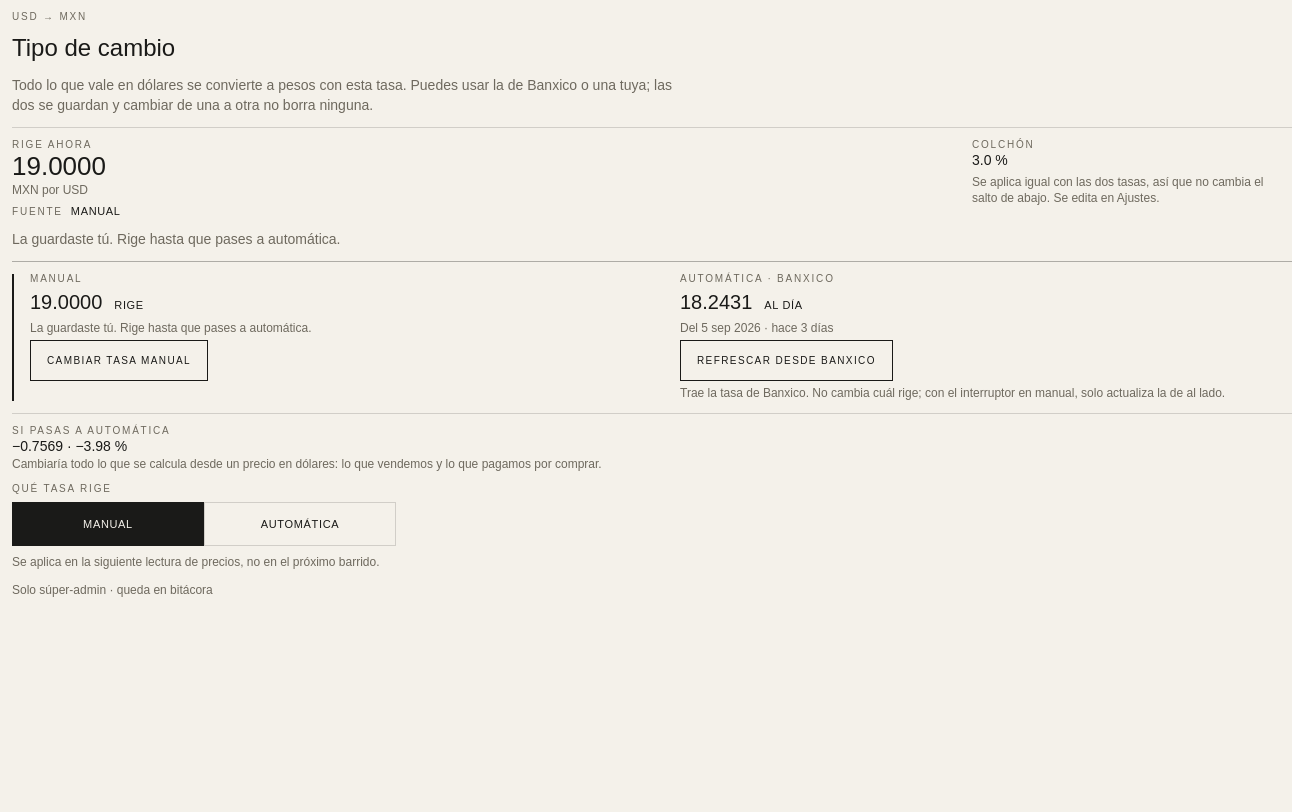
Test: FX-UI-3 ⭐ · el refresco no afirma un éxito que no ocurrió › CONTROL NEGATIVO: un `updated` de verdad se dice, con la cifra que devolvió Banxico
Click the button "Refrescar desde Banxico" at x=786, y=361, box [680,340,893,381]
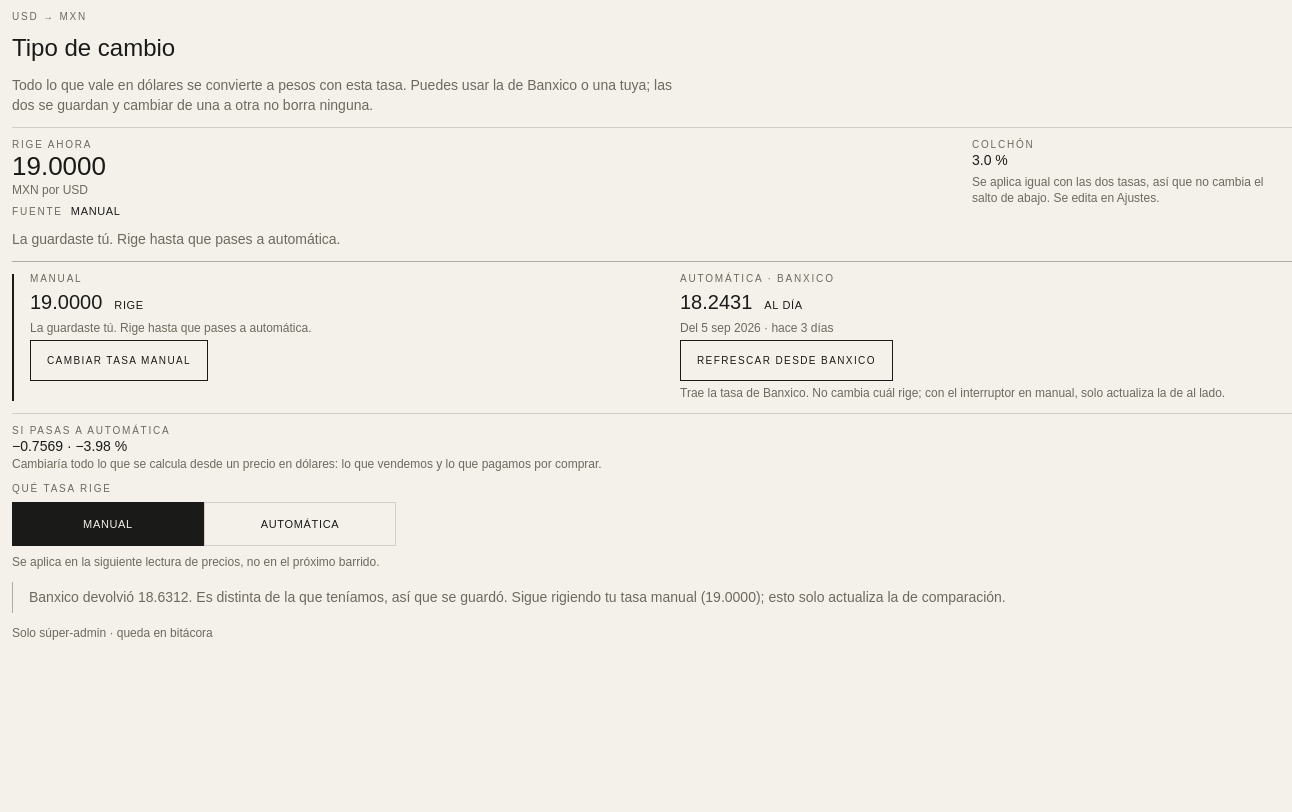
Result: the text "Banxico devolvió 18.6312" is shown at [29,589,508,605]
Result: the text "Sigue rigiendo tu tasa manual (19.0000)" is shown at [512,589,1006,605]
